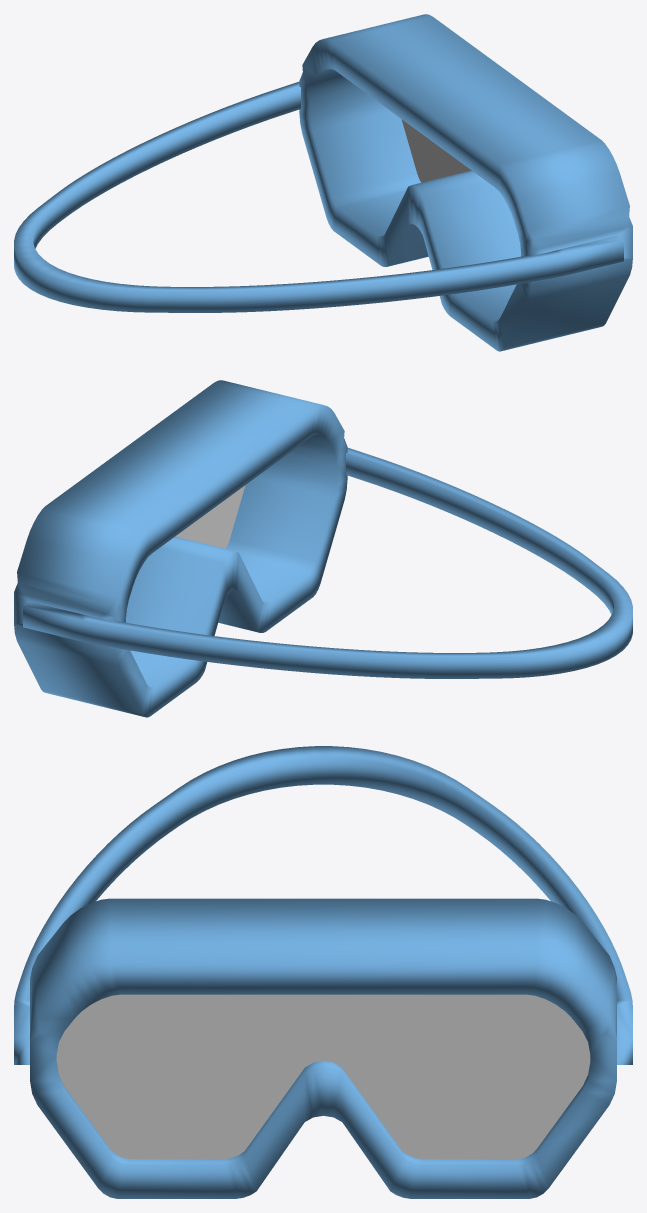
Rendered from safetygoggles.dae.
3 views of the same model, one above another, from view 1: azimuth 30°, elevation 25°; view 2: azimuth 150°, elevation 25°; view 3: azimuth 270°, elevation 25° (orthographic). The views are drawn at different scales.
Parts seen in each view (by area): view 1: Frame, Lens; view 2: Frame, Lens; view 3: Frame, Lens.
Boxes of the visible parts, <box> form: Frame: <box>14,14,632,351</box>; Lens: <box>401,119,471,182</box>; Frame: <box>14,380,632,717</box>; Lens: <box>175,485,245,548</box>; Frame: <box>14,746,632,1198</box>; Lens: <box>56,994,590,1158</box>.
Bounding box in the file's own units: 9.65 × 8.37 × 3.55.
